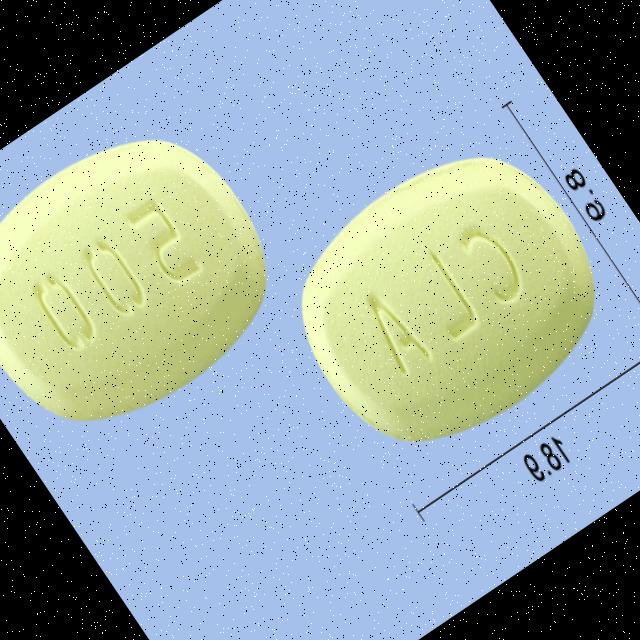Clar: (253, 109, 640, 489), (0, 89, 311, 469)
